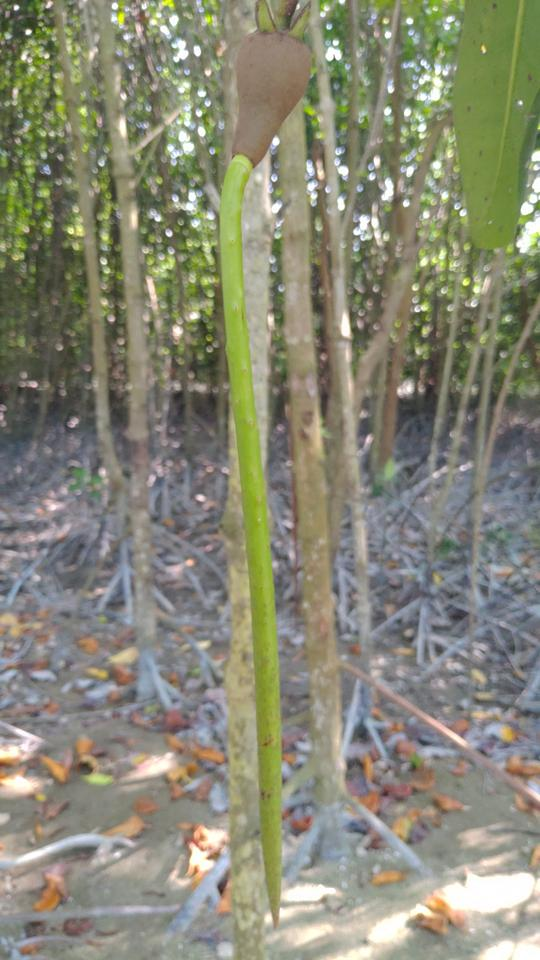setengah matang: (217, 1, 327, 927)
